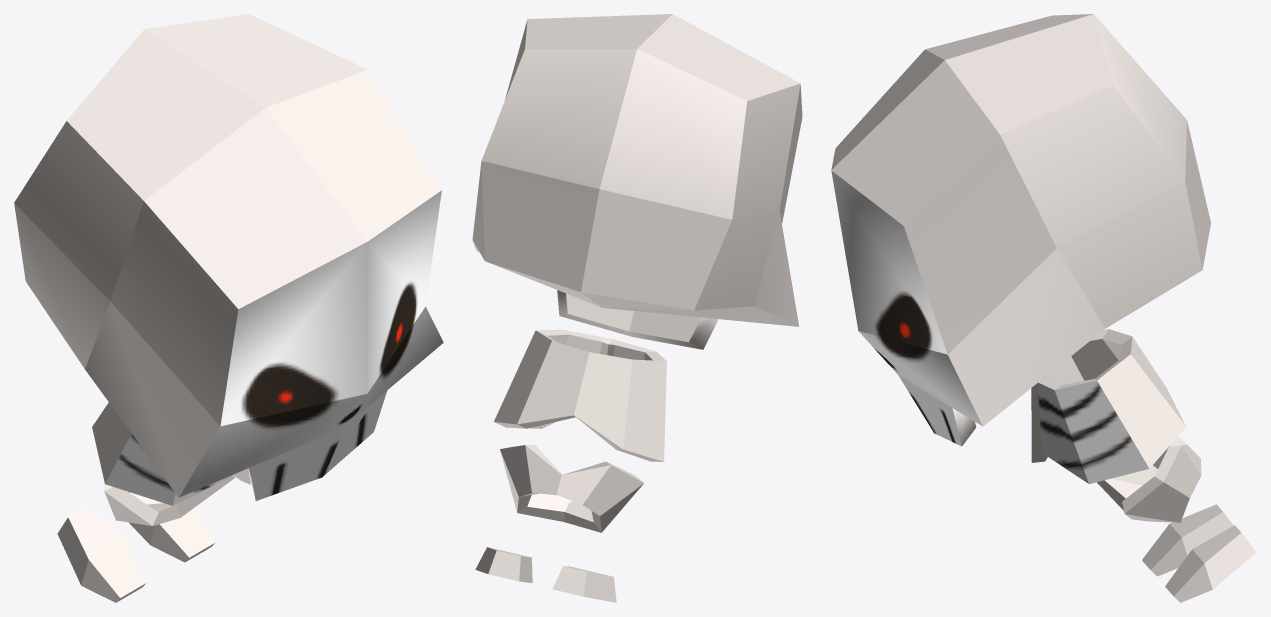
Rendered from Skeleton_Color.fbx.
3 renders of one model, left to right at view 1: azimuth 30°, elevation 25°; view 2: azimuth 150°, elevation 25°; view 3: azimuth 270°, elevation 25°, orthographic. The views are drawn at different scales.
Visible parts, largest first — view 1: Skeleton_Color; view 2: Skeleton_Color; view 3: Skeleton_Color.
Part boxes in pixels (<box>): Skeleton_Color: <box>14,14,443,602</box>; Skeleton_Color: <box>472,14,802,602</box>; Skeleton_Color: <box>831,14,1256,602</box>.
Bounding box in the file's own units: 9.38 × 10.41 × 14.91.
